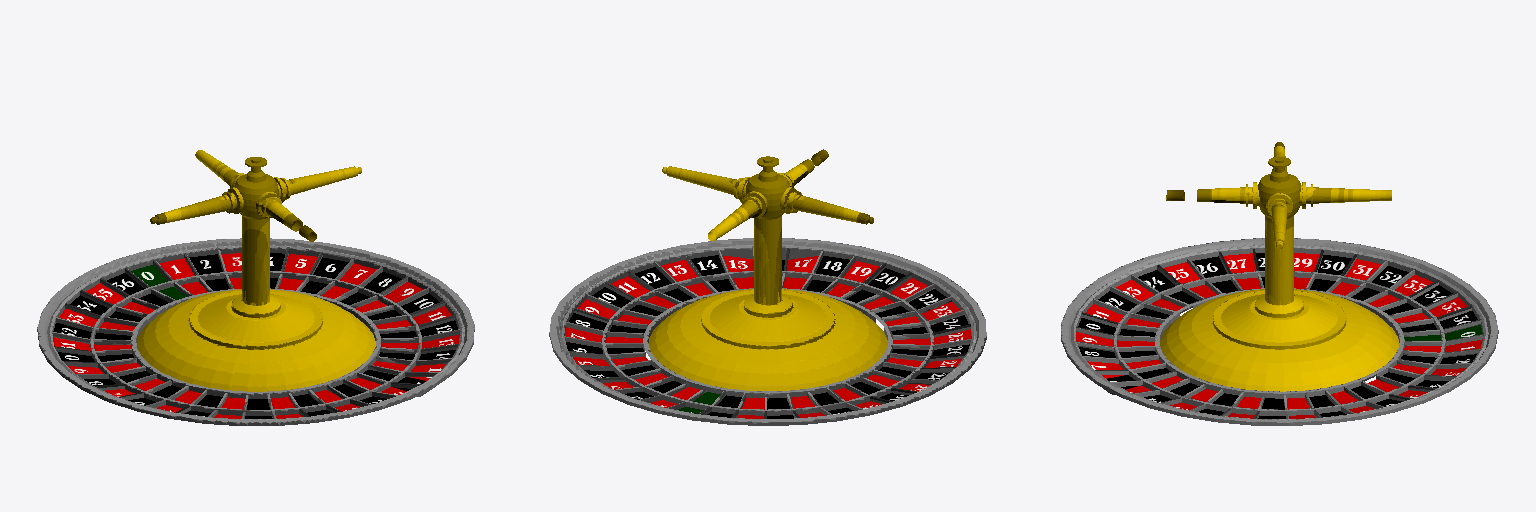
3 renders of one model, left to right at view 1: azimuth 30°, elevation 25°; view 2: azimuth 150°, elevation 25°; view 3: azimuth 270°, elevation 25°, orthographic.
Parts seen in each view (by area): view 1: Circle.000_Circle.002, Plane.001_Plane.017, Circle.006_Circle.000; view 2: Circle.000_Circle.002, Plane.001_Plane.017, Circle.006_Circle.000; view 3: Circle.000_Circle.002, Plane.001_Plane.017, Circle.006_Circle.000.
Part boxes in pixels (x1,y1,x2,y2): Circle.000_Circle.002: (37, 238, 474, 425); Plane.001_Plane.017: (137, 150, 375, 391); Circle.006_Circle.000: (53, 253, 459, 418); Circle.000_Circle.002: (549, 238, 986, 425); Plane.001_Plane.017: (648, 149, 887, 390); Circle.006_Circle.000: (565, 255, 971, 418); Circle.000_Circle.002: (1061, 238, 1498, 425); Plane.001_Plane.017: (1160, 142, 1398, 391); Circle.006_Circle.000: (1076, 253, 1482, 418).
Size of the model in its own units: 4.8 by 2.35 by 4.79.
3 materials, 3 textured.